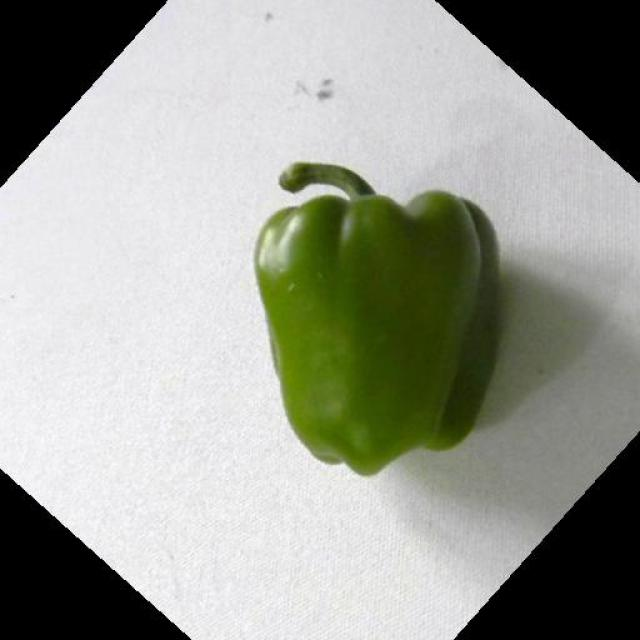Fresh_Capsicum: (224, 161, 514, 481)
